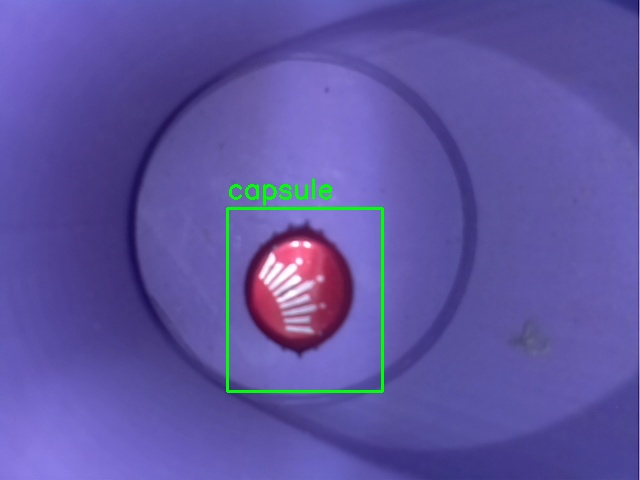capsule: (227, 208, 382, 391)
